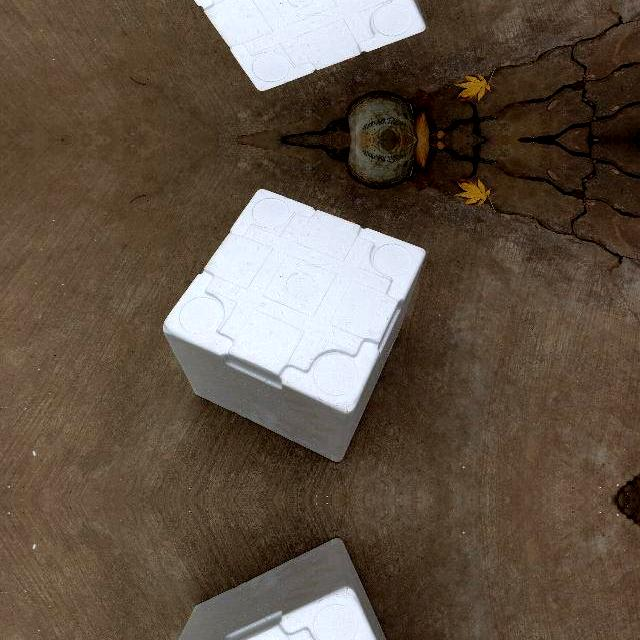Styrofoam: (163, 189, 425, 461), (164, 189, 426, 461), (164, 539, 426, 640), (164, 0, 426, 91), (178, 539, 387, 640), (194, 0, 425, 91)
